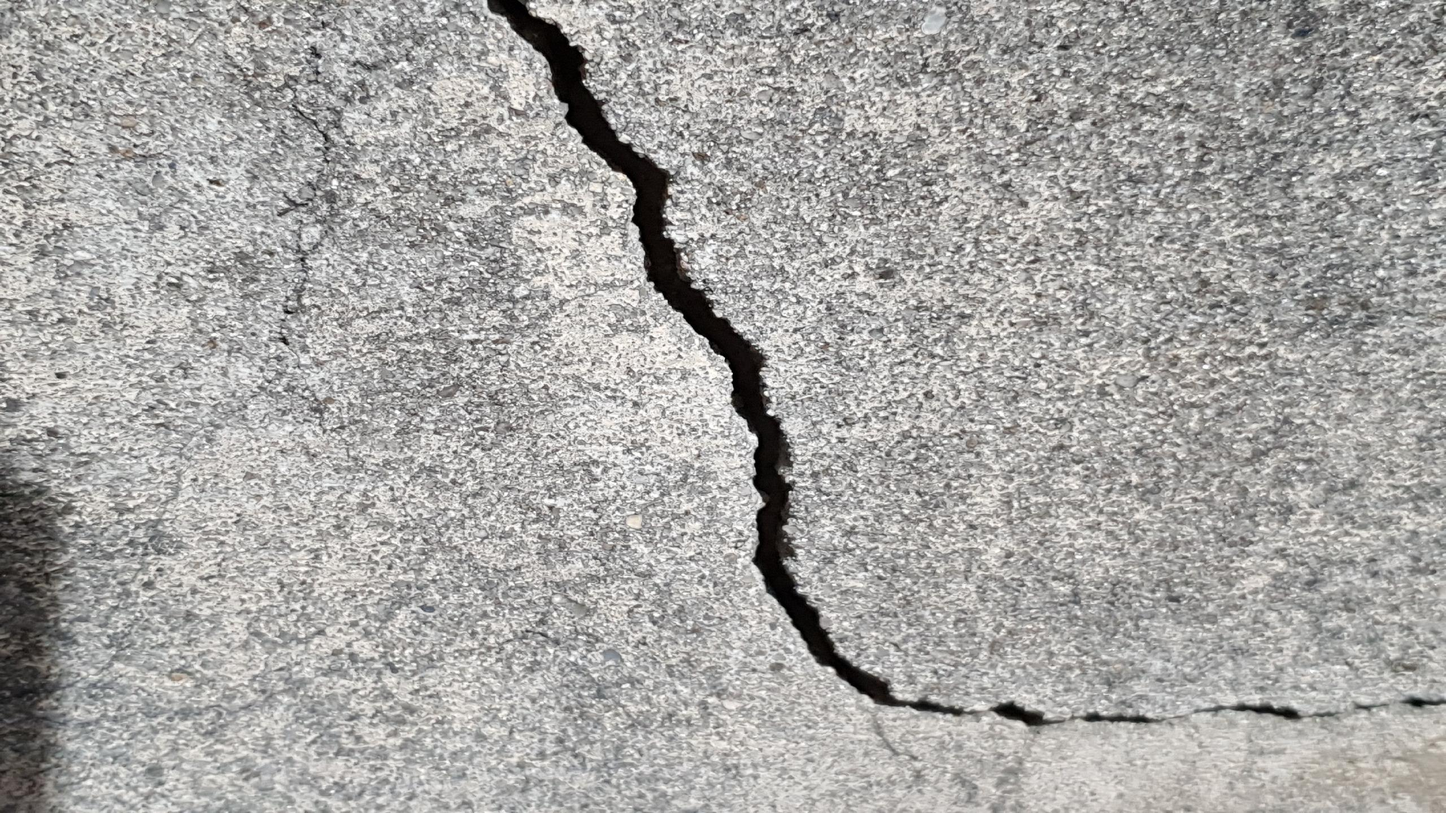crack: (484, 6, 1306, 730)
